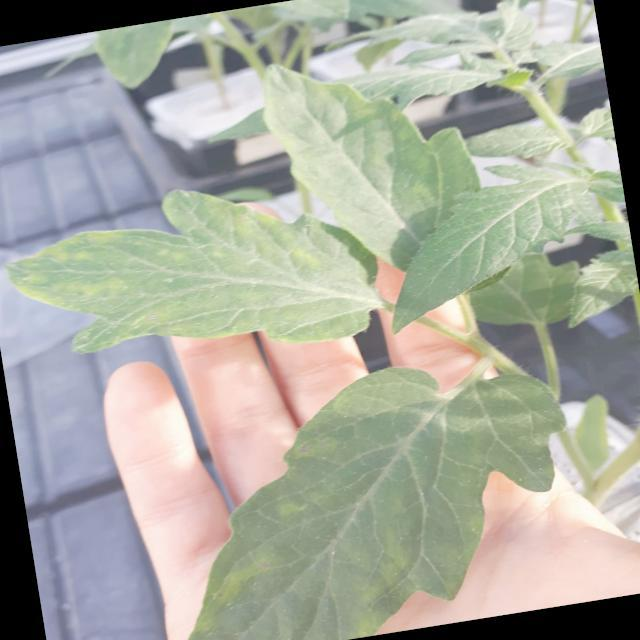Tomato healthy leaf: (365, 150, 616, 336)
Tomato mold leaf: (143, 339, 595, 640), (0, 159, 397, 391)
